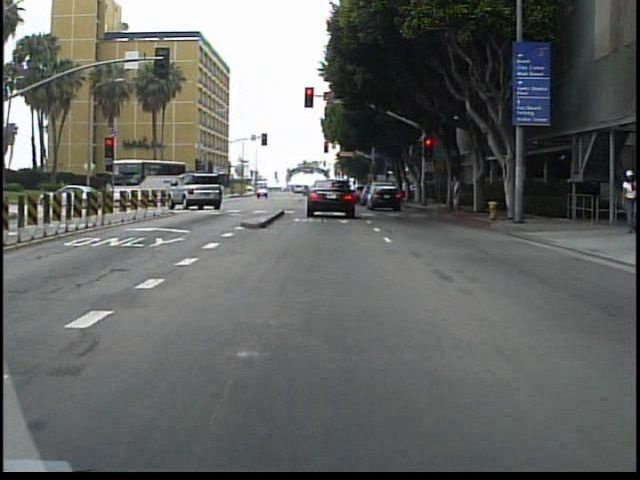person: (449, 169, 466, 214)
